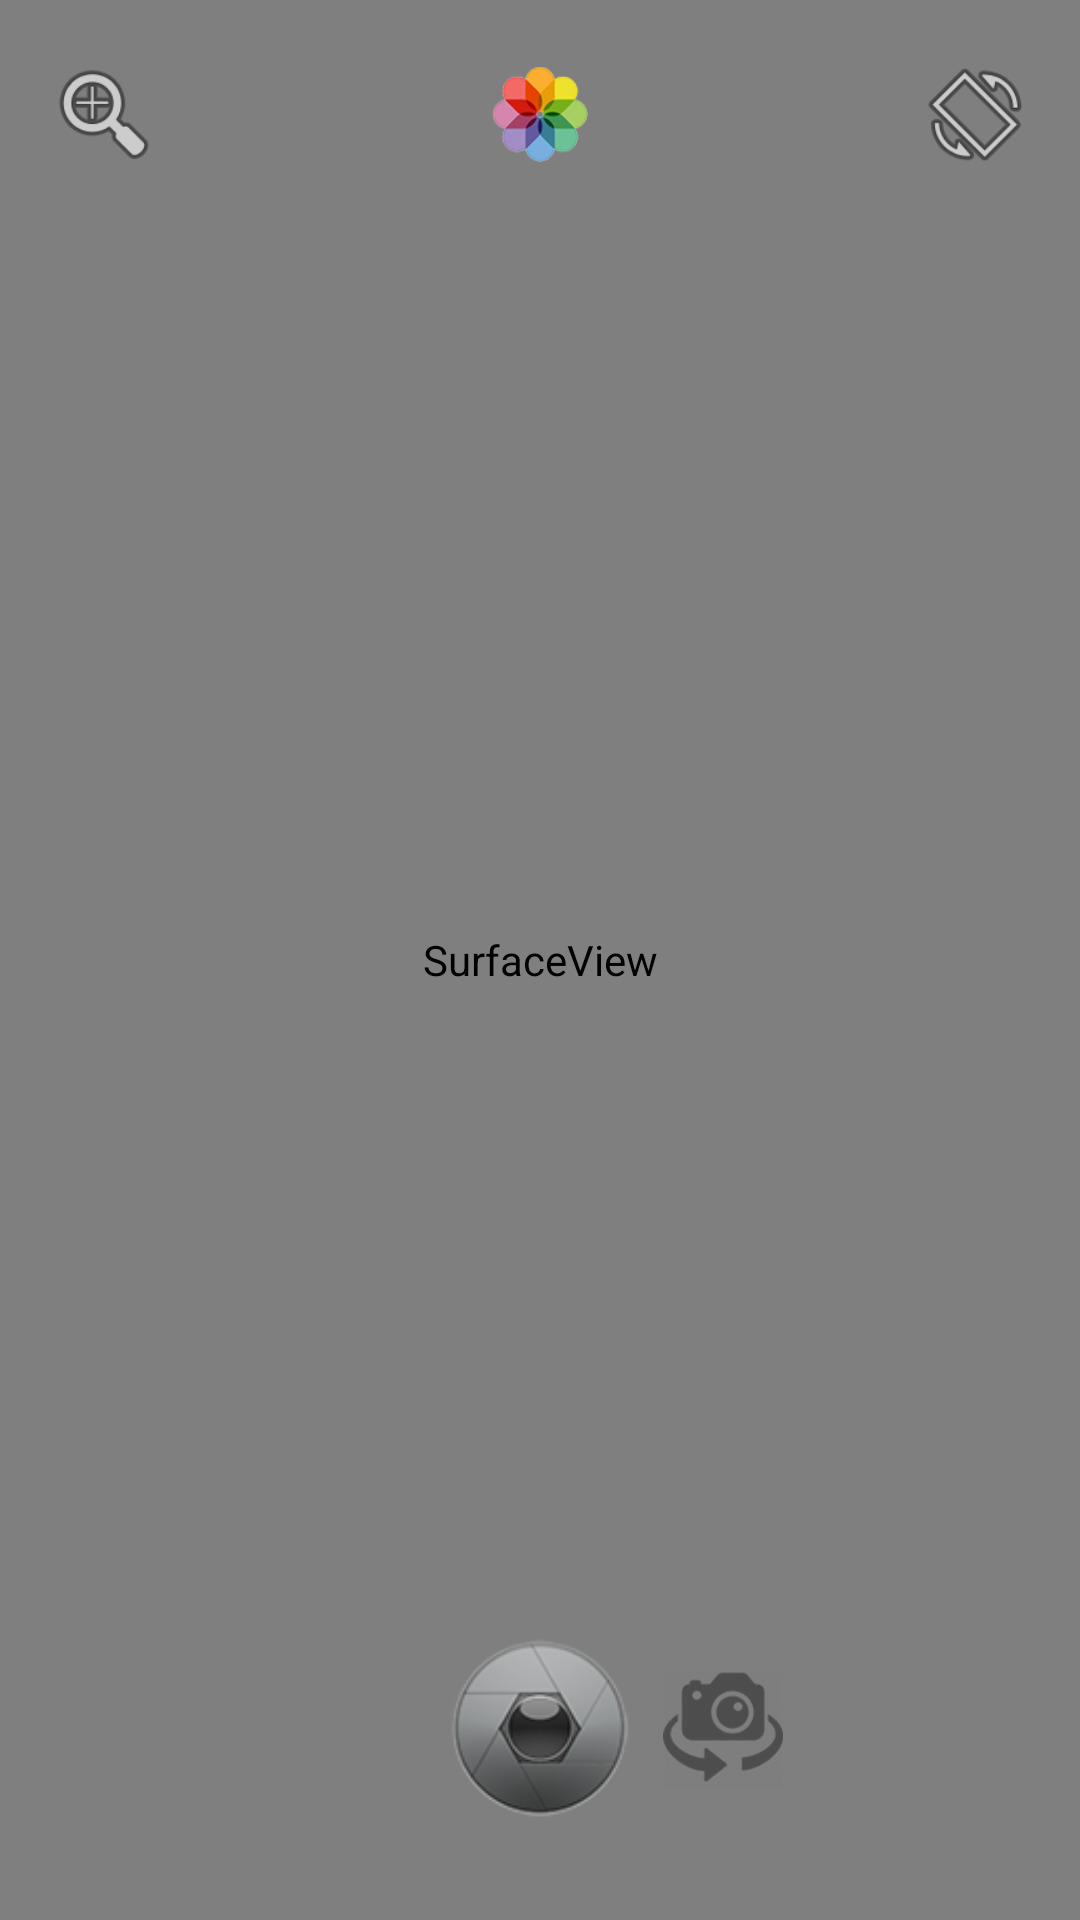

Icon bounding boxes for this 1080x1920 phone screenshot, format [x1=x1, y1=y1, x2=x2, y2=y2]:
clickorient: [x1=929, y1=69, x2=1021, y2=160]
clickswitchcam: [x1=663, y1=1673, x2=783, y2=1782]
clicktake: [x1=456, y1=1646, x2=626, y2=1814]
